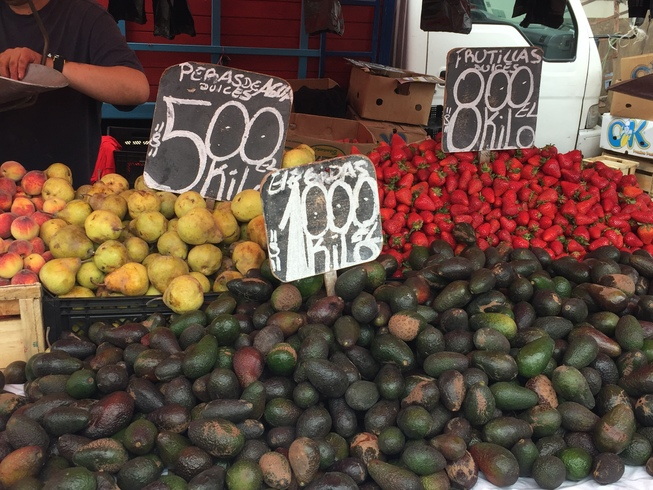precio: (148, 57, 288, 205), (260, 153, 389, 286), (442, 40, 541, 153)
